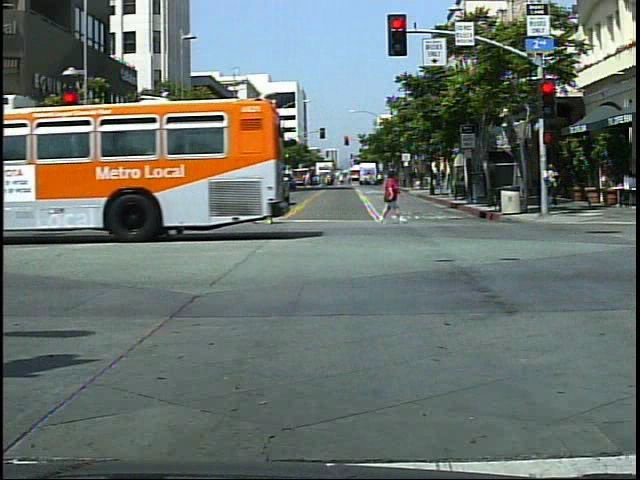person: (253, 166, 284, 230), (144, 169, 174, 235), (379, 168, 403, 228), (546, 161, 564, 212)
